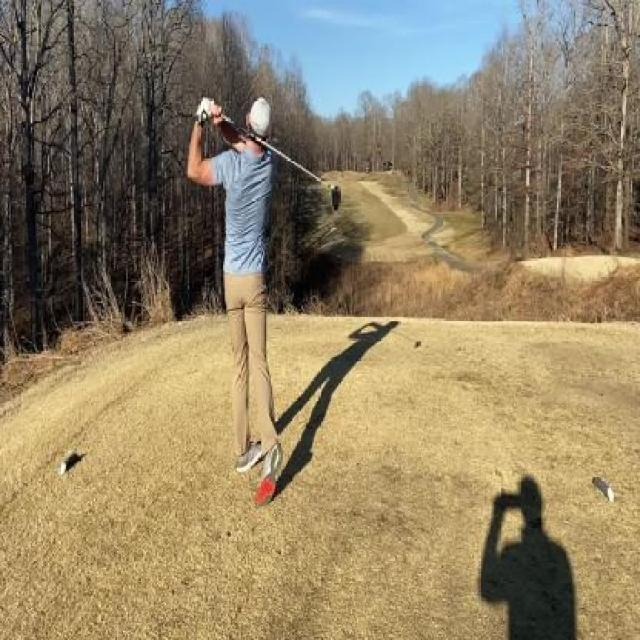club head: (324, 182, 339, 213)
